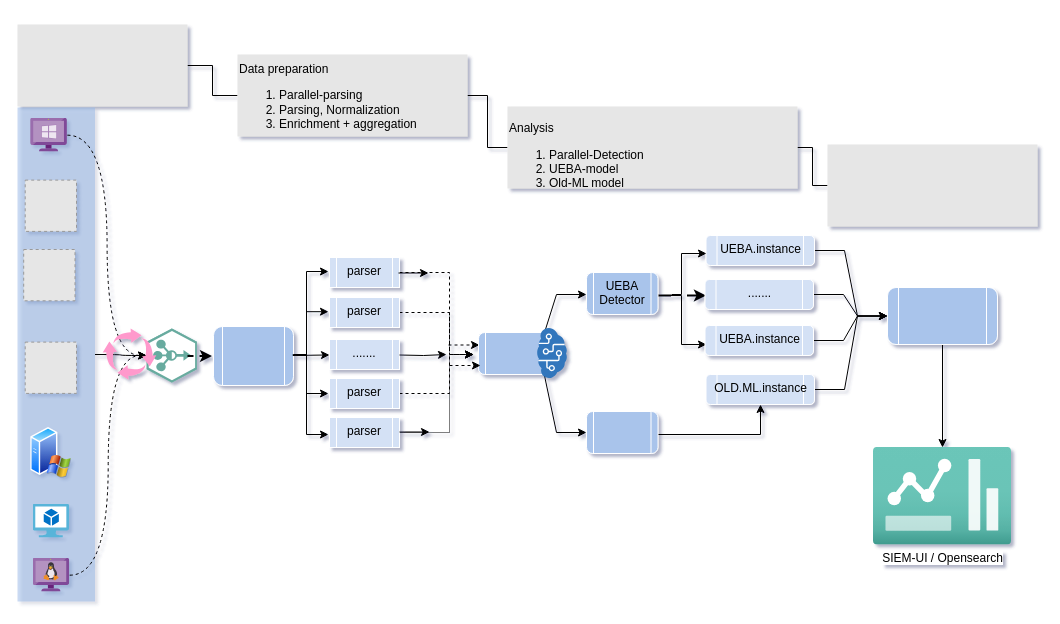
This 1060x624 diagram has some shape labels left out. Grey dashed boxes stand in for pictures. Here are the shapes that lost their labels. From the top down, the box of each, then its label:
(17, 24, 187, 106): Log and collection Agent-based windows + linux
(827, 144, 1037, 226): Alert management Scoring and reporting Pushing alerts to Nisir-SIEM-UI
(886, 286, 998, 344): Alert Manager
(212, 326, 294, 386): Log parser
(478, 332, 550, 374): NISIR Models
(586, 410, 658, 454): ML /GMM Detector
